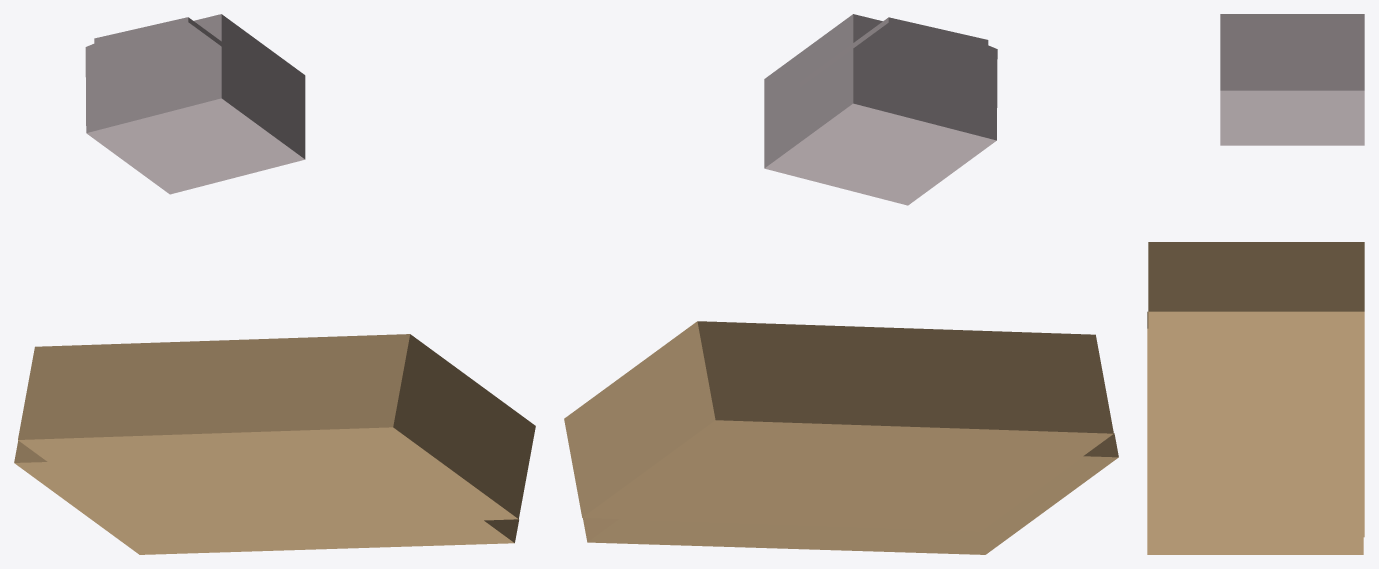
The picture shows the model from 3 angles, left to right: view 1: azimuth 30°, elevation 25°; view 2: azimuth 150°, elevation 25°; view 3: azimuth 270°, elevation 25°; orthographic projection. The views are drawn at different scales.
Visible parts, largest first — view 1: 0_3_2_0_2_2_0_1_0; view 2: 0_3_2_0_2_2_0_1_0; view 3: 0_3_2_0_2_2_0_1_0.
Boxes of the visible parts, left/top/right/bottom form: 0_3_2_0_2_2_0_1_0: left=14, top=14, right=535, bottom=554; 0_3_2_0_2_2_0_1_0: left=564, top=14, right=1118, bottom=554; 0_3_2_0_2_2_0_1_0: left=1147, top=14, right=1364, bottom=554.
Bounding box in the file's own units: 49.21 × 57.42 × 27.1.
